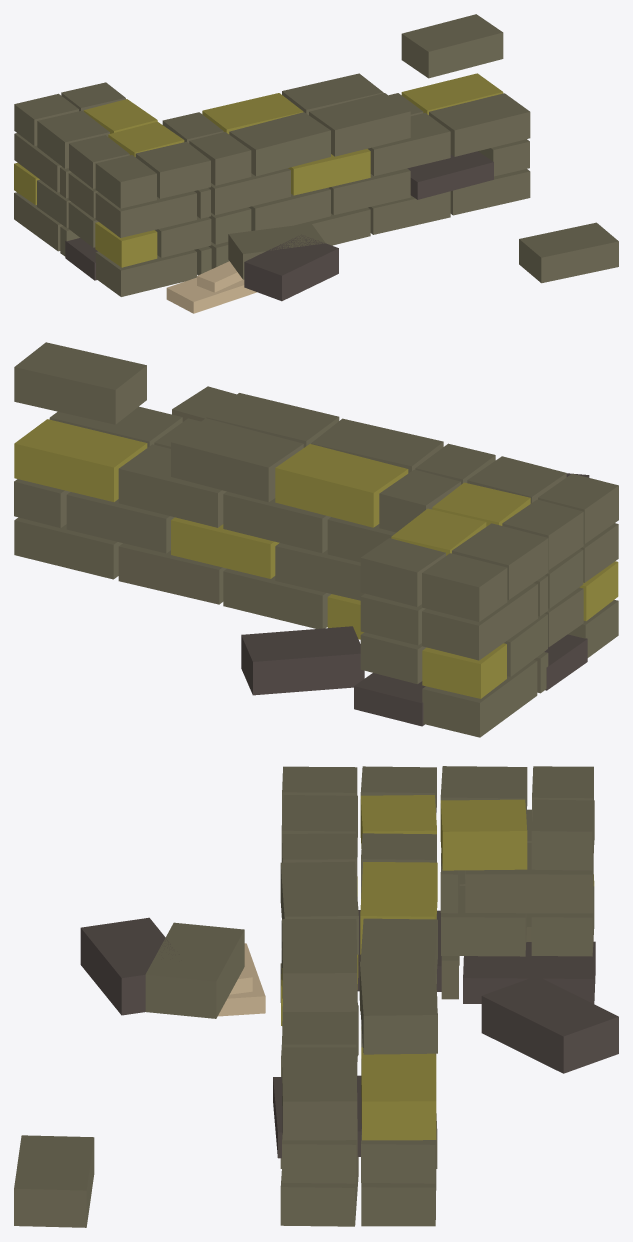
File: SM_SacosRemate_v2_Irregular_e1_Danado_LOD0.fbx
3 renders of one model, top to bottom at view 1: azimuth 30°, elevation 25°; view 2: azimuth 150°, elevation 25°; view 3: azimuth 270°, elevation 25°, orthographic. The views are drawn at different scales.
Parts seen in each view (by area): view 1: SM_sacos_piezas_v29_LOD0; view 2: SM_sacos_piezas_v29_LOD0; view 3: SM_sacos_piezas_v29_LOD0.
Part boxes in pixels (bbox=[...]): SM_sacos_piezas_v29_LOD0: bbox=[14, 14, 618, 313]; SM_sacos_piezas_v29_LOD0: bbox=[14, 342, 618, 737]; SM_sacos_piezas_v29_LOD0: bbox=[14, 766, 618, 1227].
Bounding box in the file's own units: 4.38 × 1.49 × 3.82.
